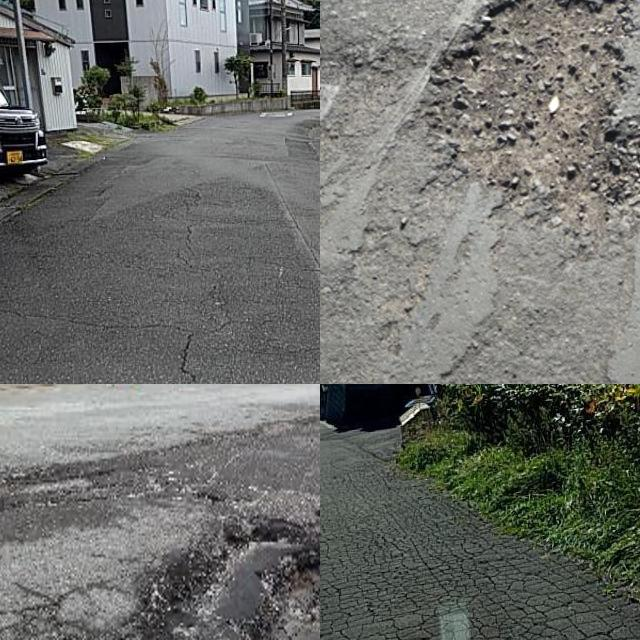Lubang: (445, 0, 640, 216), (82, 514, 320, 640)
Memanjang: (256, 166, 320, 289)
Retak Buaya: (320, 458, 640, 640)
